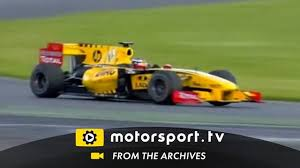FormulaOneCar: (24, 36, 263, 109)
